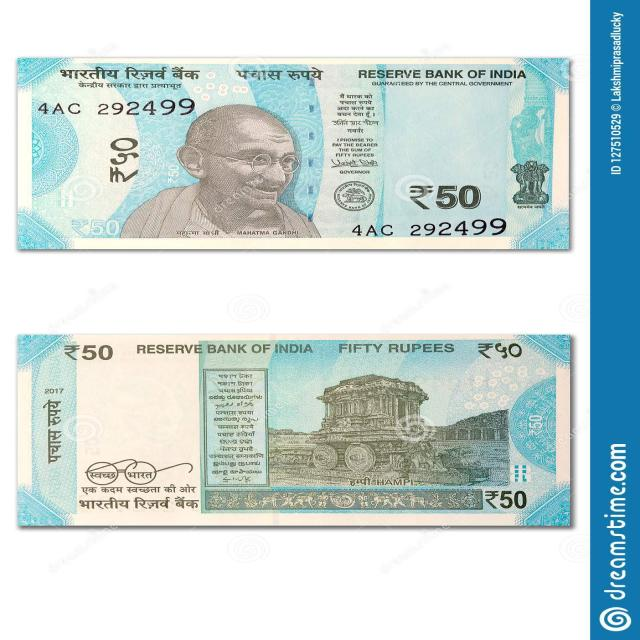50IndianRupees: (13, 332, 568, 530)
